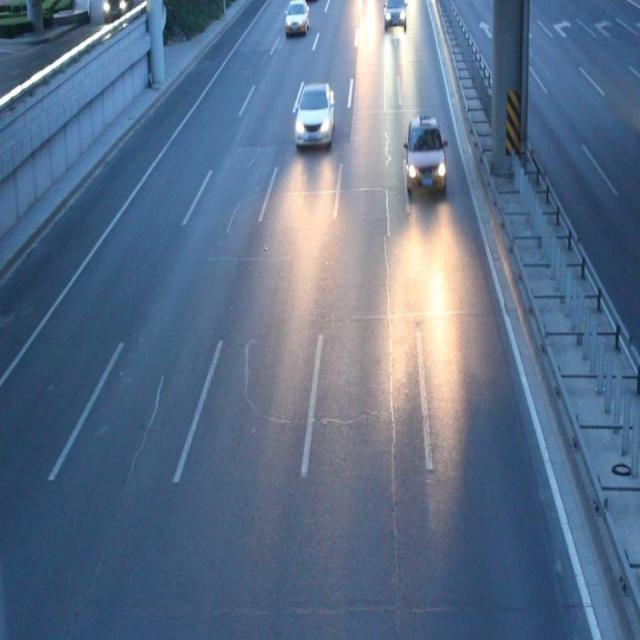car: (403, 118, 445, 194), (294, 84, 334, 146), (284, 1, 308, 36), (383, 1, 406, 32)
